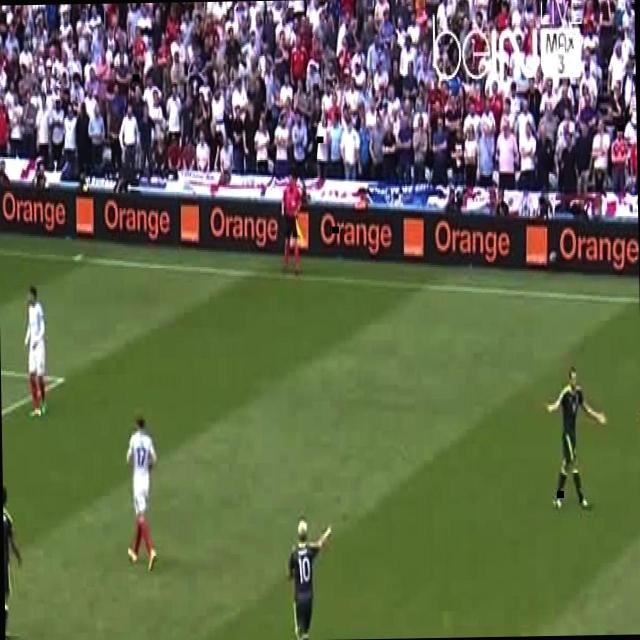player-white: (544, 364, 608, 510), (284, 514, 332, 640), (126, 416, 160, 572), (23, 287, 48, 417), (2, 484, 22, 640), (281, 174, 303, 274)
